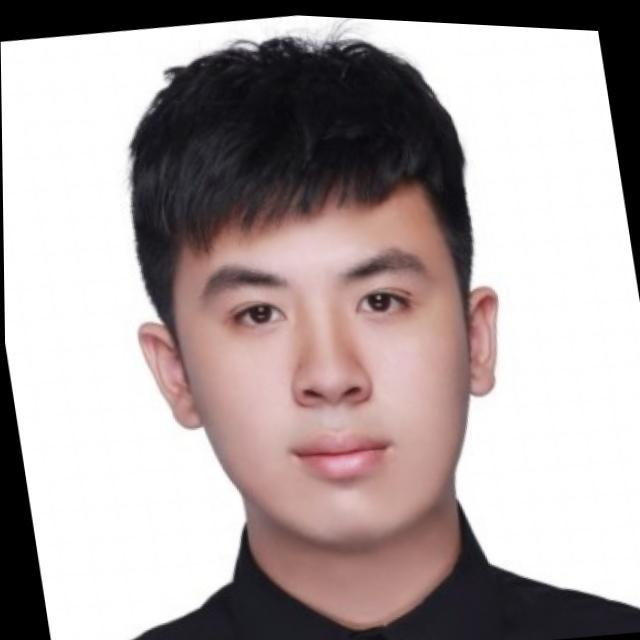Nonhelmet: (102, 33, 526, 565)
